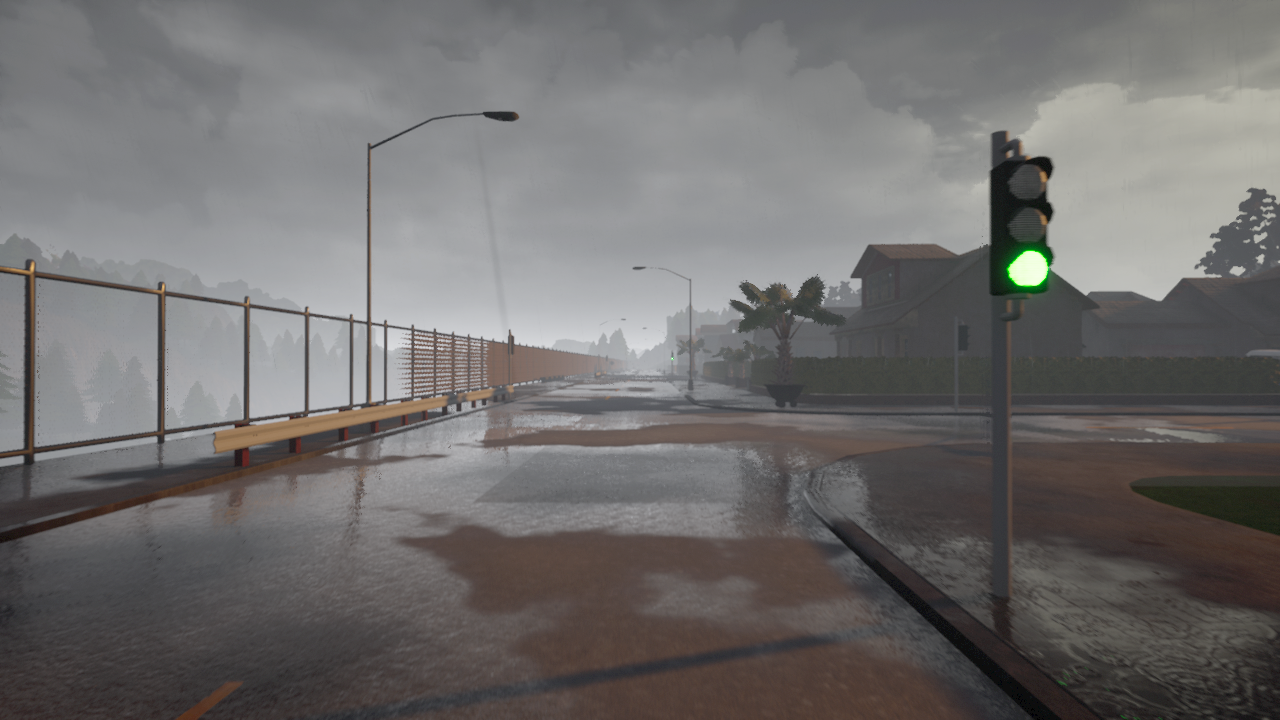green: (992, 156, 1063, 296)
